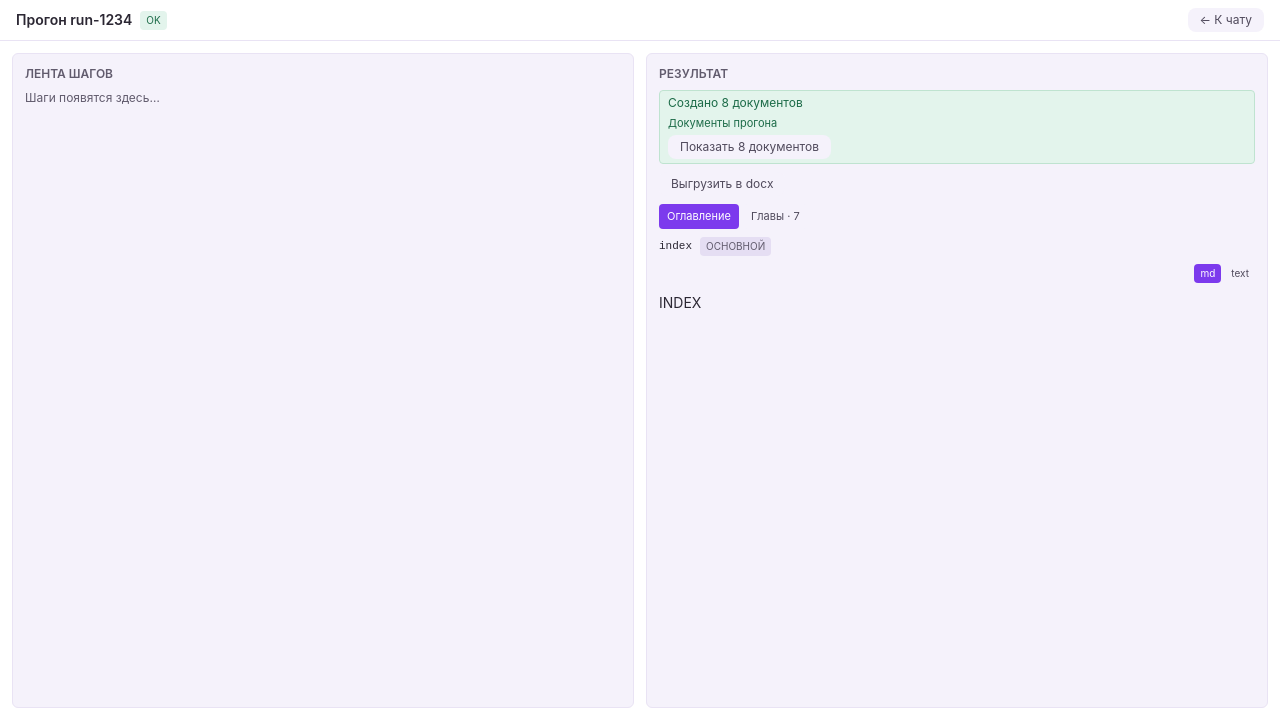
Test: RunView collection outputs › collapses the created-docs chip list beyond the six-chip limit
This screenshot has width=1280, height=720.
Expected: the message shows "Создано 8 документов", [668,95,803,110]
Expected: the button "Глава 1" is not shown
Step 1. Click the button "Показать 8 документов" → (750, 147), box [668,135,831,159]
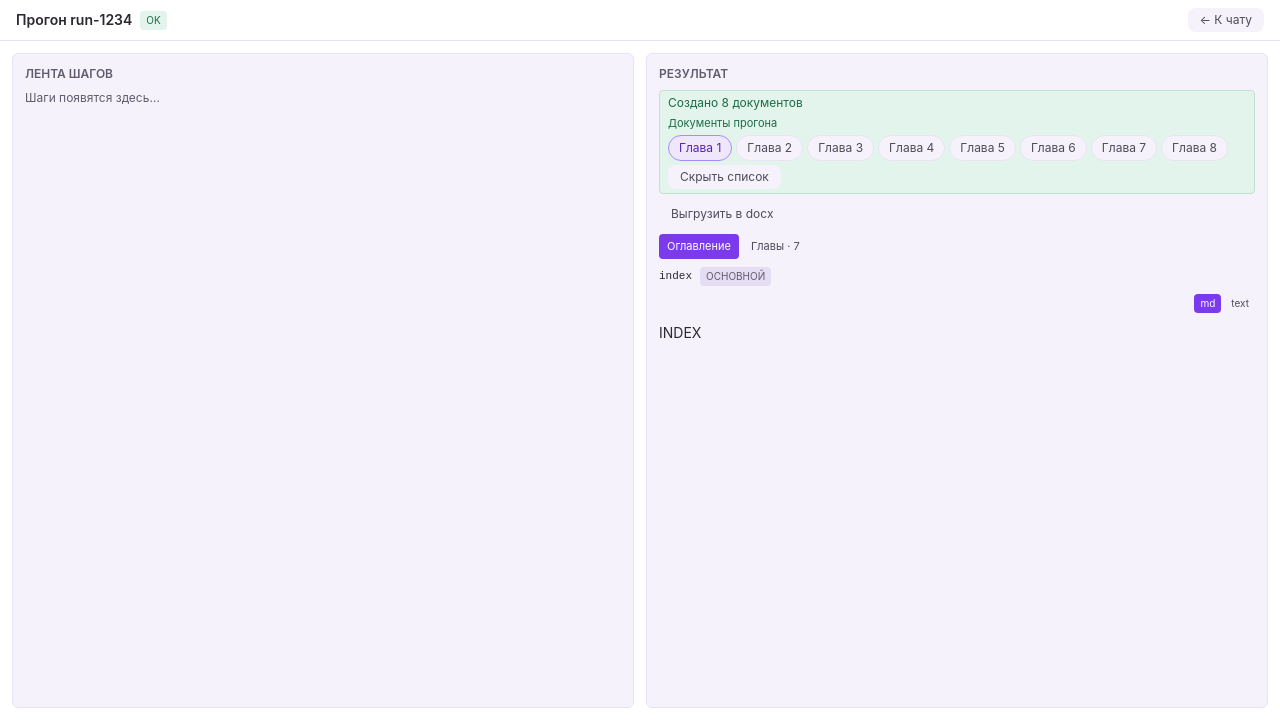
Expected: the button "Скрыть список" is shown, [668,165,781,189]
Expected: the text "Глава 1" is shown, [668,135,732,161]
